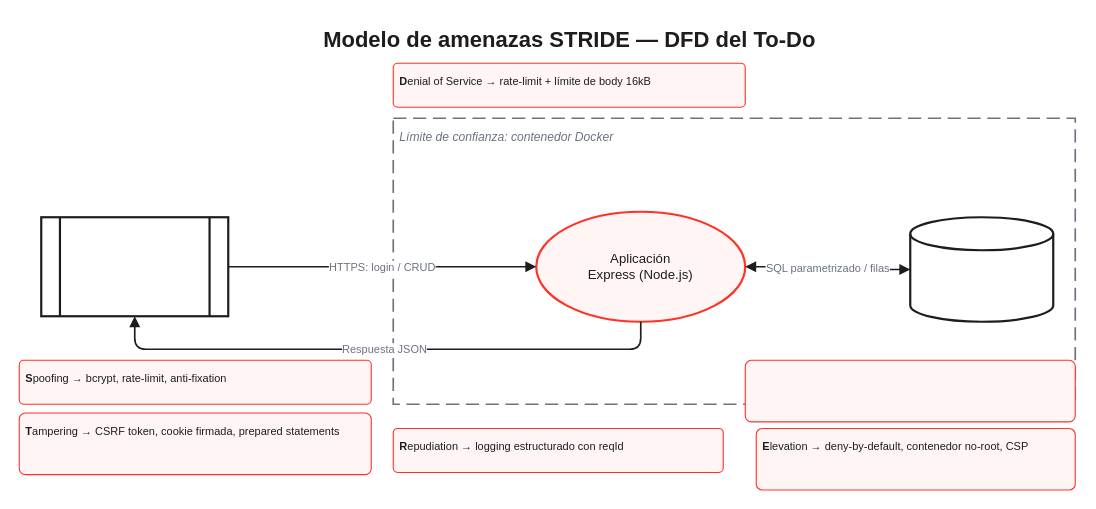
Image size: 1096x509. Some labels were removed from this diagram. Here are the shapes that lost their labels. From the top down, the centre of each, then its label:
At [134,266]: "Usuario (Navegador)".
At [981,269]: "SQLite todo.db".
At [909,390]: "I nfo. disclosure → redacción de logs, errores sin detalle, anti-IDOR".
